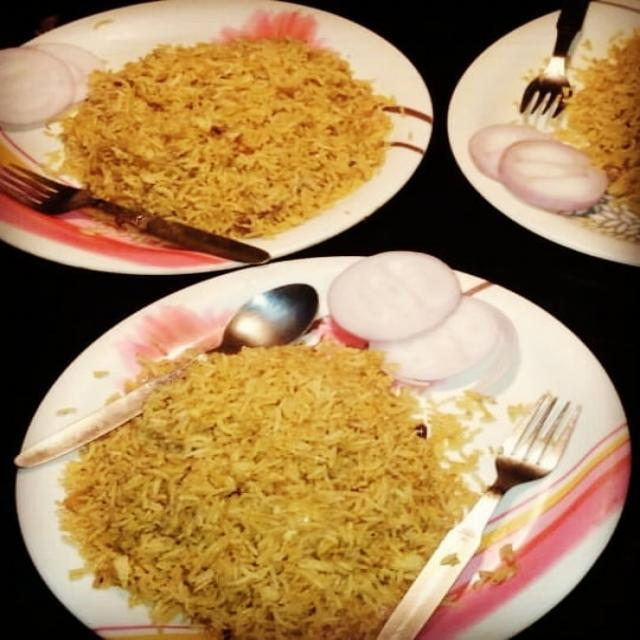biryani: (100, 331, 475, 639), (79, 28, 367, 218), (576, 51, 640, 231)
